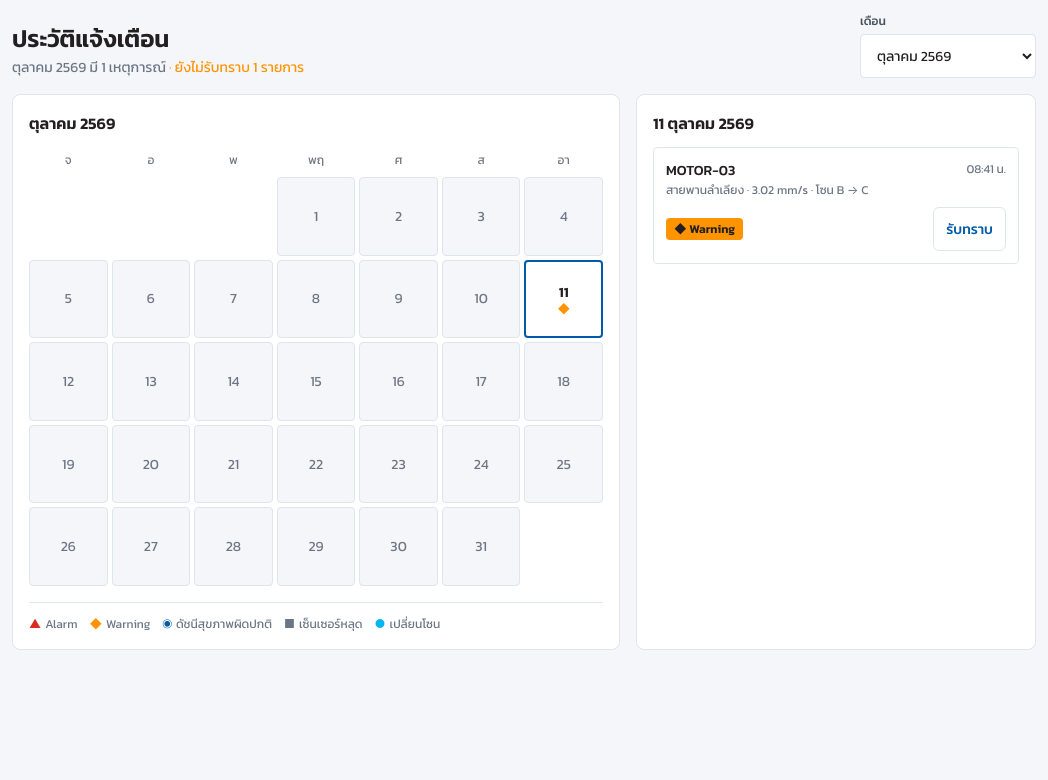
it: History › role maintenance กด ack → ยิง POST แล้วแสดงชื่อคนที่รับทราบ
What coordinates should you click on to do the following:
click the button "11 ◆"
I would click on:
 (564, 299)
Its box is [524, 260, 603, 338].
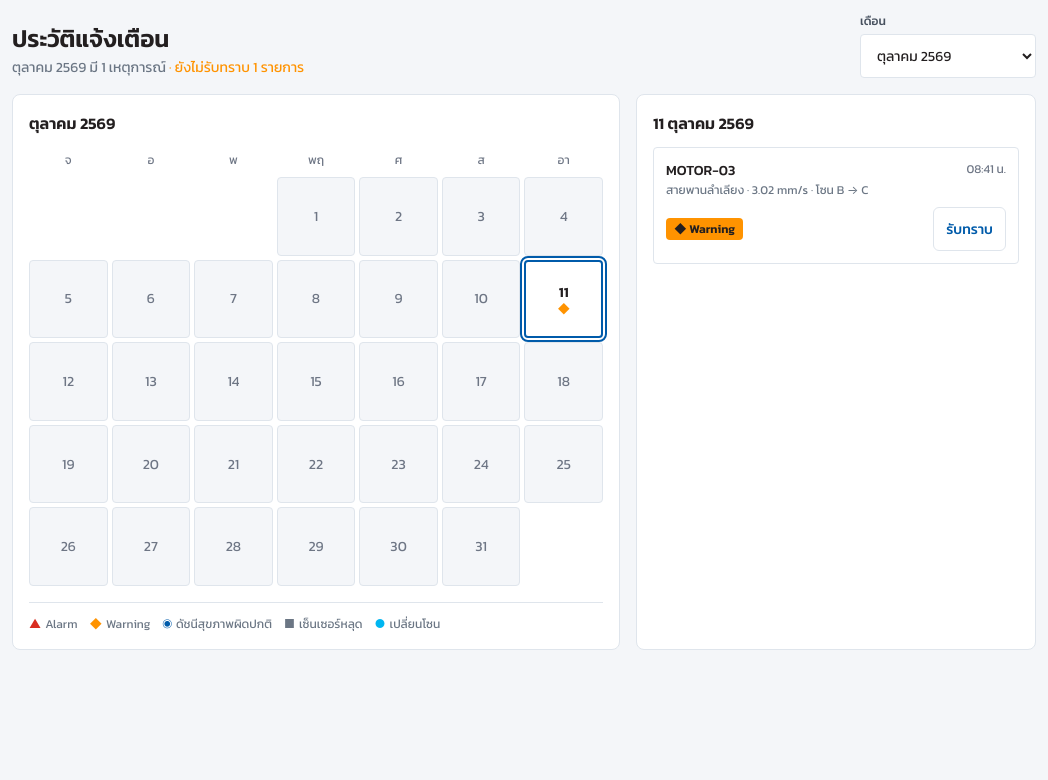
What coordinates should you click on to do the following:
click the button "รับทราบ"
I would click on:
 (970, 229)
Its box is [933, 207, 1006, 251].
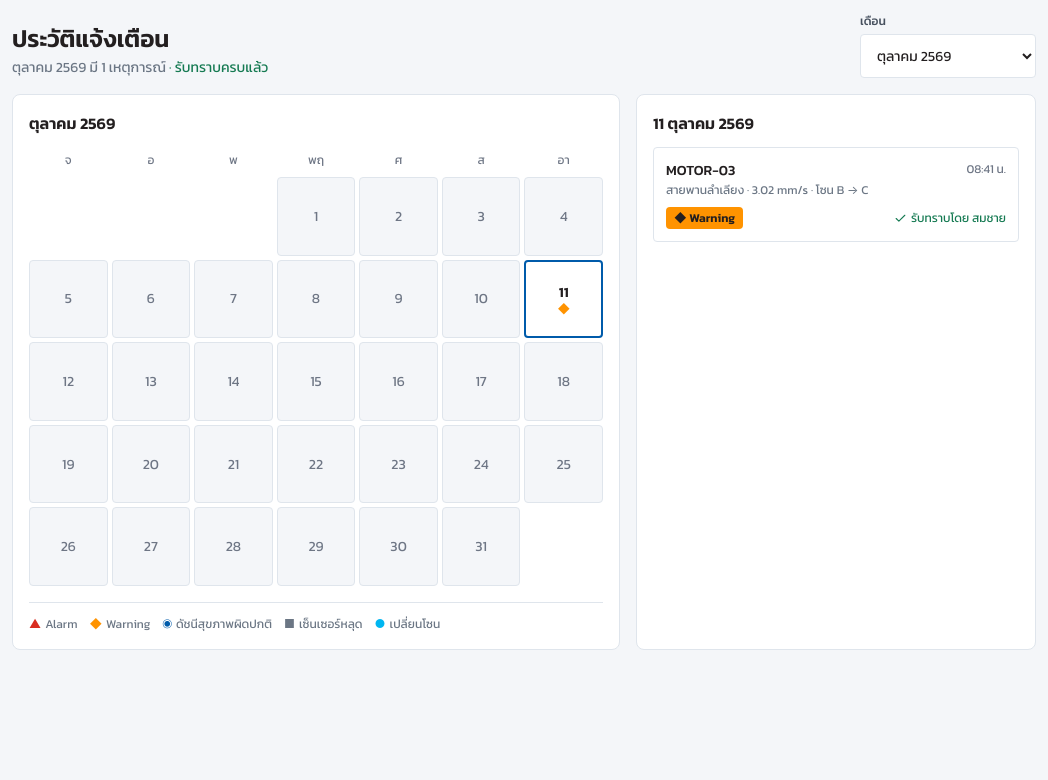
Expected: the text "รับทราบโดย สมชาย" is shown, [894, 209, 1006, 227]
